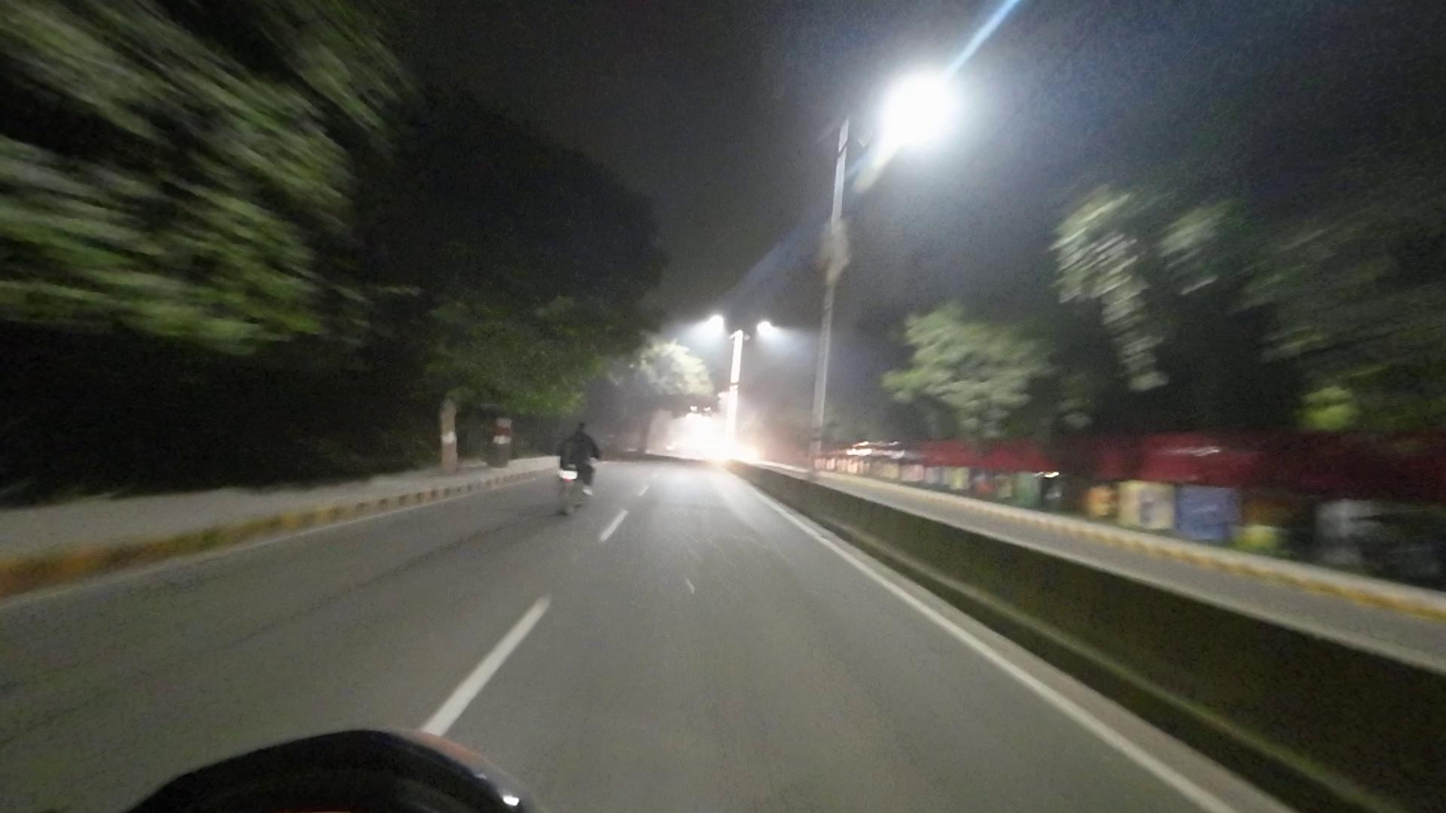streetlight: (763, 76, 838, 123)
